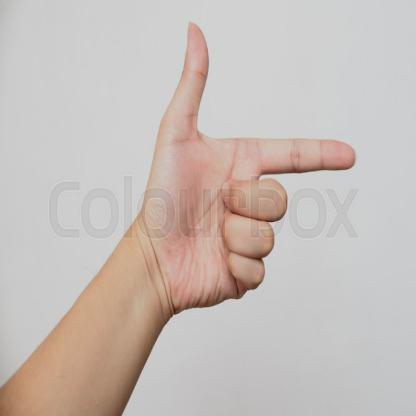Left: (144, 13, 364, 320)
